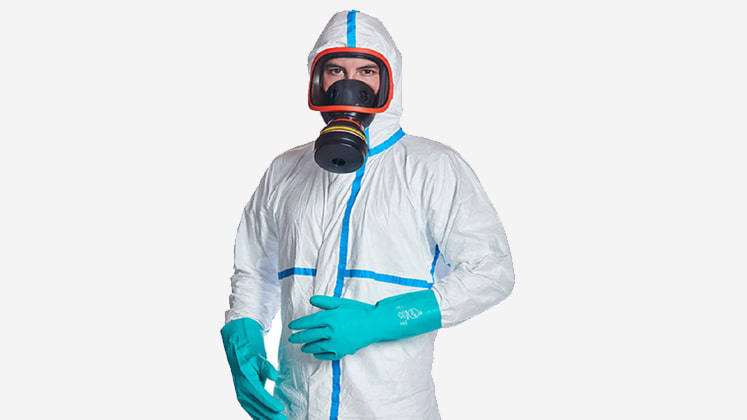Coverall: (227, 8, 512, 420)
Gloves: (287, 282, 441, 362), (217, 316, 285, 420)
with_mask: (308, 50, 395, 176)
